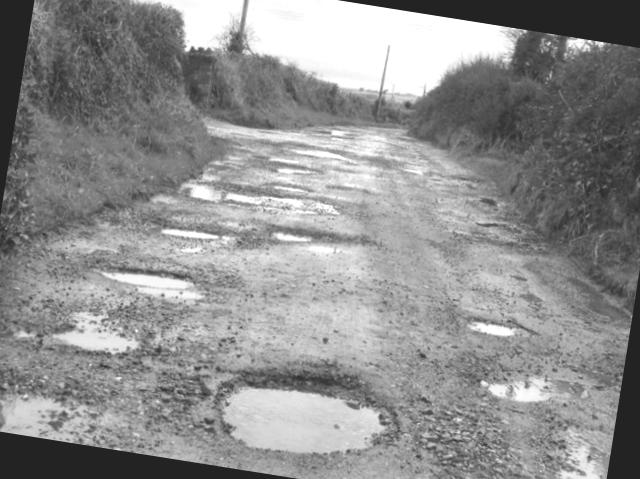Pothole: (213, 352, 397, 470), (462, 338, 607, 435), (86, 246, 215, 317), (162, 170, 332, 220), (0, 366, 106, 446), (39, 303, 148, 366), (255, 211, 364, 260), (453, 300, 530, 354), (551, 427, 612, 479), (157, 216, 232, 251), (472, 207, 541, 241), (249, 150, 324, 178)
